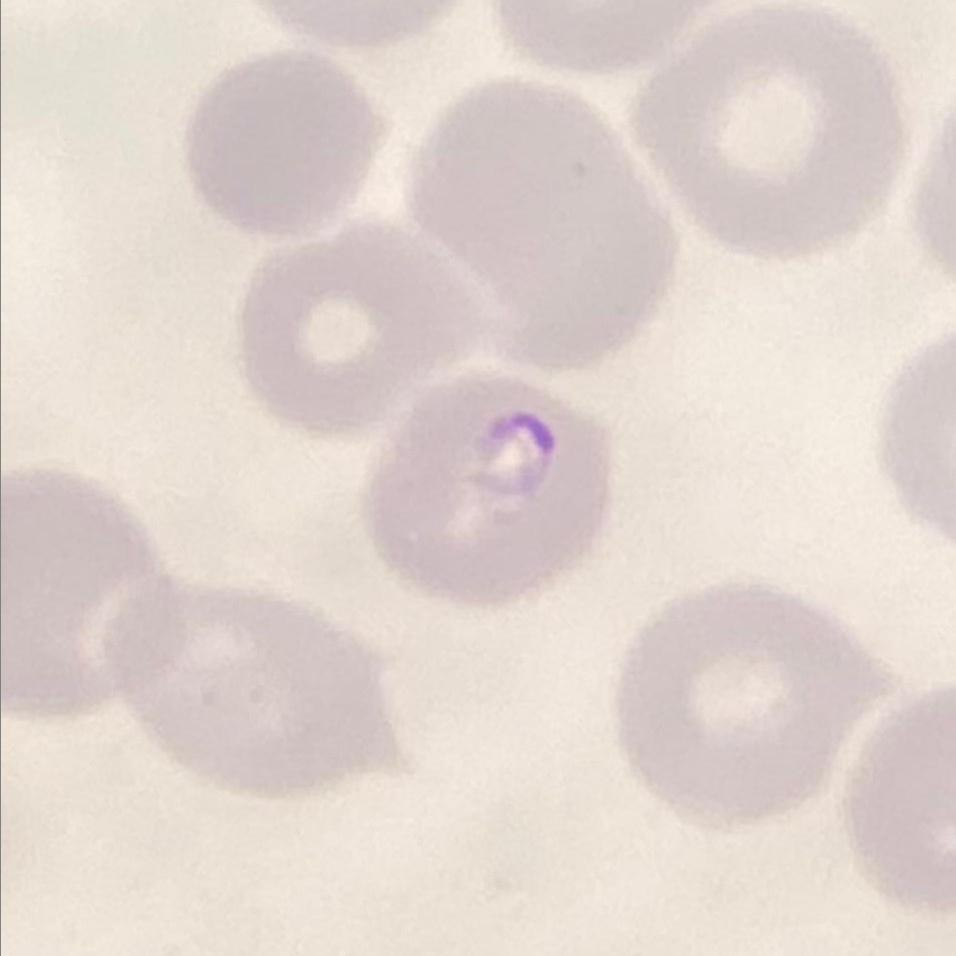Infected: (372, 381, 609, 601)
Uninfected: (402, 81, 672, 375), (623, 573, 896, 838), (95, 588, 402, 810), (645, 0, 901, 256), (232, 221, 488, 428), (0, 468, 186, 726), (183, 48, 381, 236)
